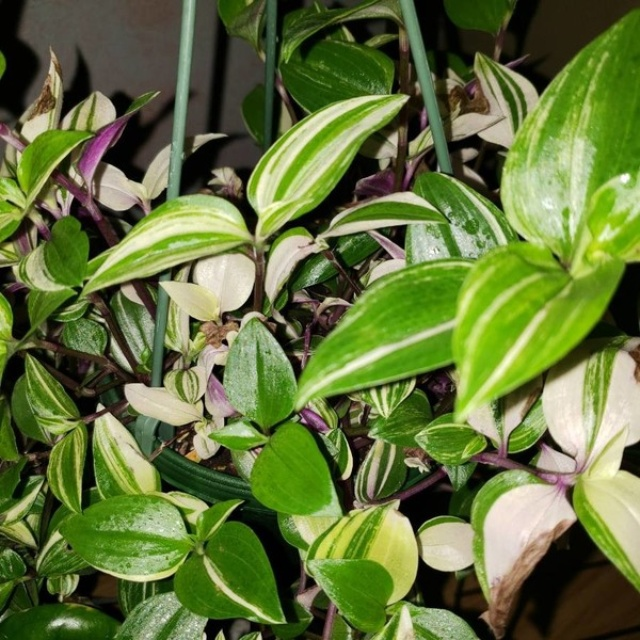obstacle: (119, 107, 623, 595), (316, 25, 621, 391)
